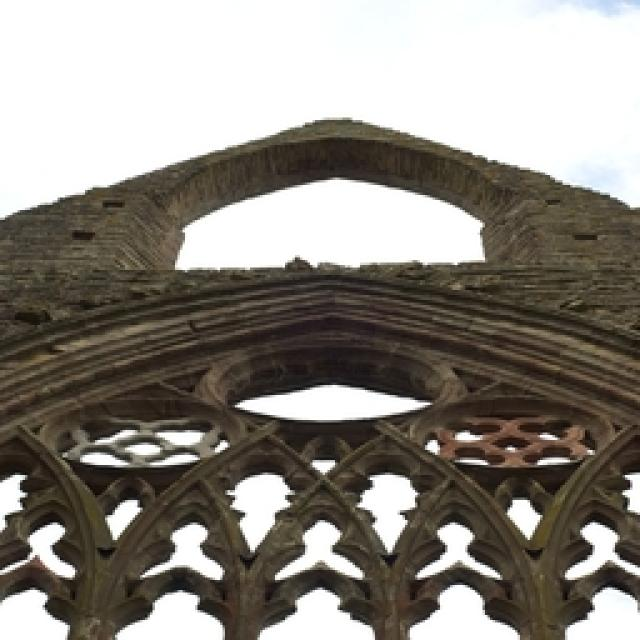Abbey: (7, 106, 640, 640)
